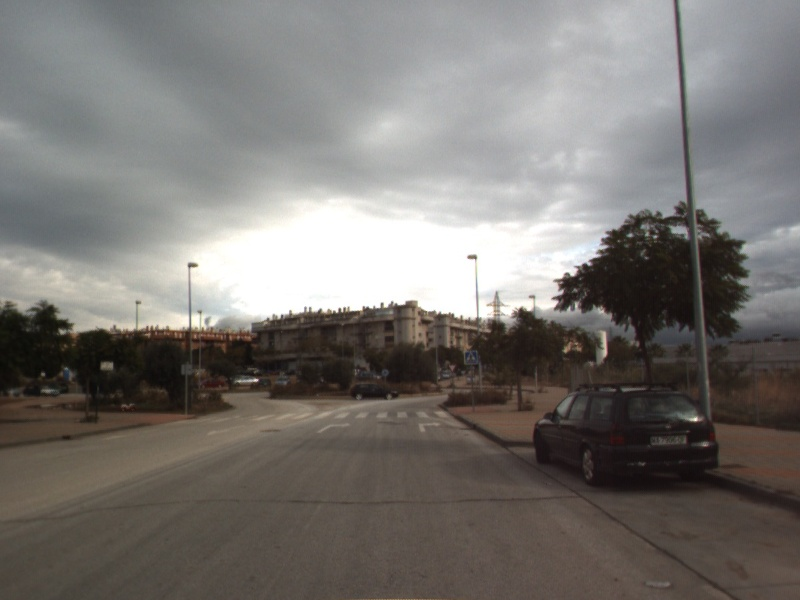RIGHT: (315, 420, 353, 435), (416, 419, 443, 434)
